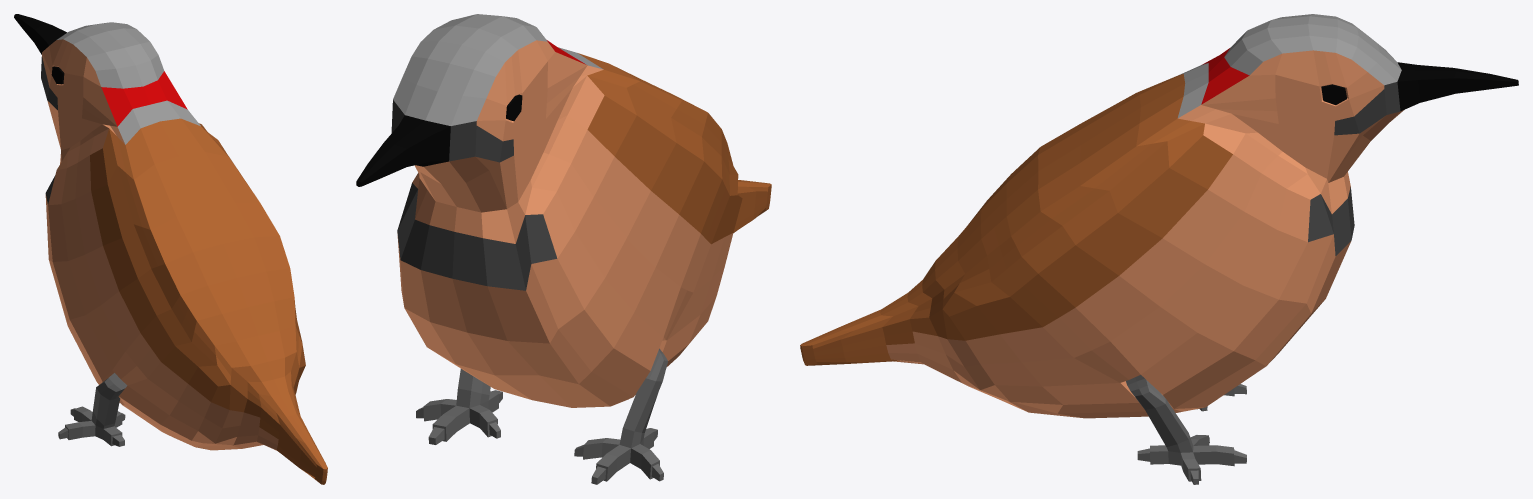
Rendered from bird.glb.
The picture shows the model from 3 angles, left to right: view 1: azimuth 30°, elevation 25°; view 2: azimuth 150°, elevation 25°; view 3: azimuth 270°, elevation 25°; orthographic projection. The views are drawn at different scales.
Parts seen in each view (by area): view 1: Cube; view 2: Cube; view 3: Cube.
Part boxes in pixels (x1,y1,x2,y2): Cube: (14,14,327,484); Cube: (356,14,771,484); Cube: (800,14,1518,484).
Bounding box in the file's own units: 2.91 × 5.2 × 8.32.
